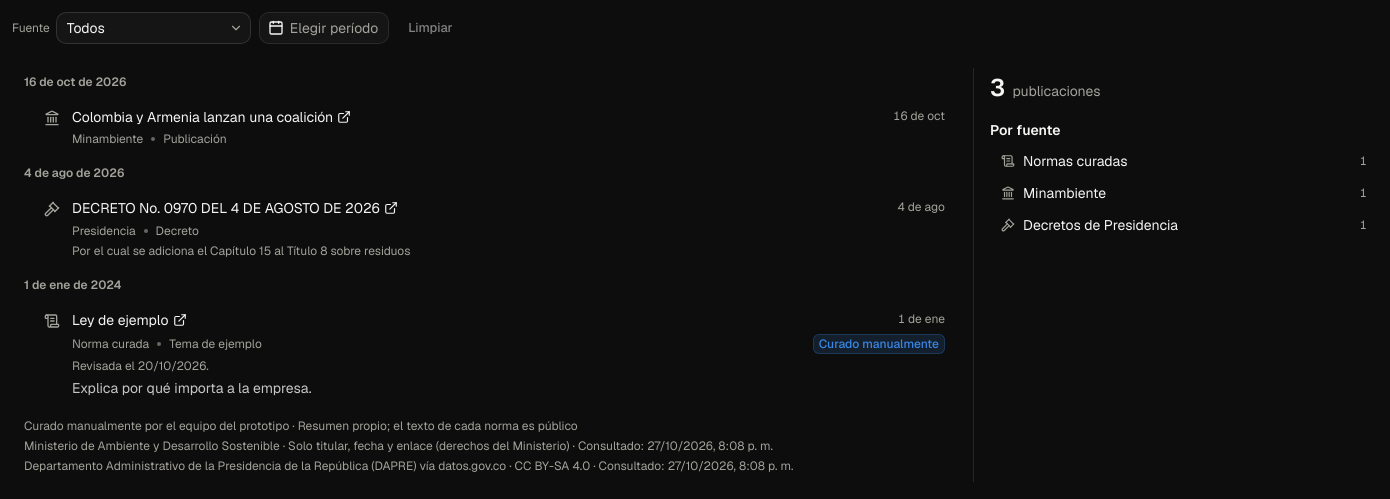
Test case: RegulacionView › filters by source and clears the filter
The width and height of the screenshot is (1390, 499).
Expected: the link "DECRETO No. 0970 DEL 4 DE AGOSTO DE 2026" is shown, [72, 199, 398, 219]
Select "Minambiente" in the dropdown labelled "Fuente" at (153,28), box [56, 12, 251, 44]
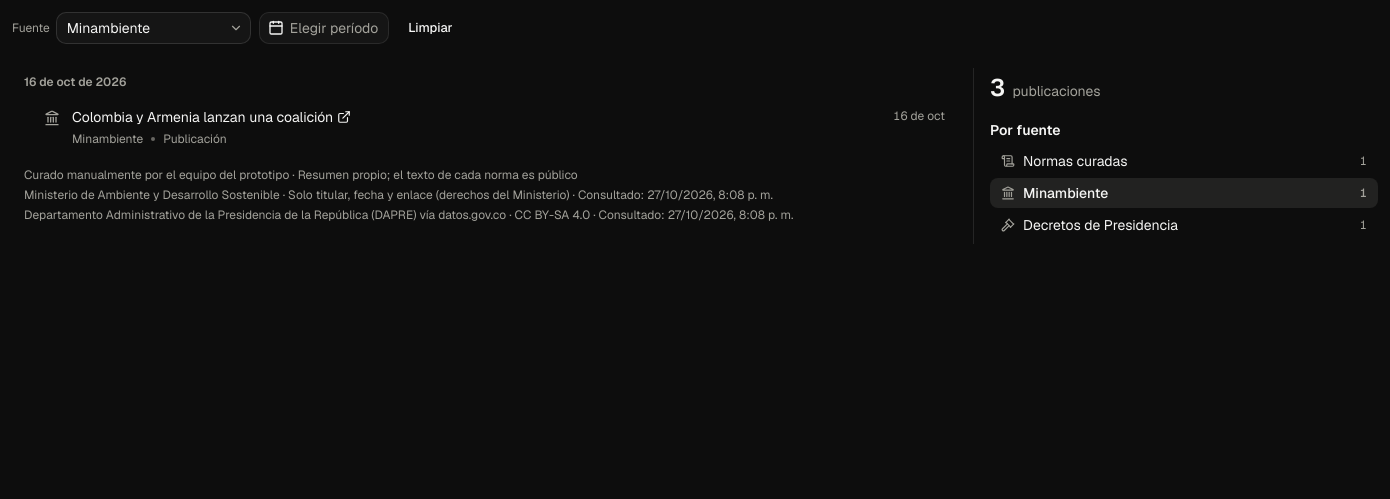
Expected: the link "Colombia y Armenia lanzan una coalición" is shown, [72, 108, 351, 127]
Now the link "DECRETO No. 0970" is gone
Click the button "Limpiar" at (430,28), box [397, 14, 464, 42]
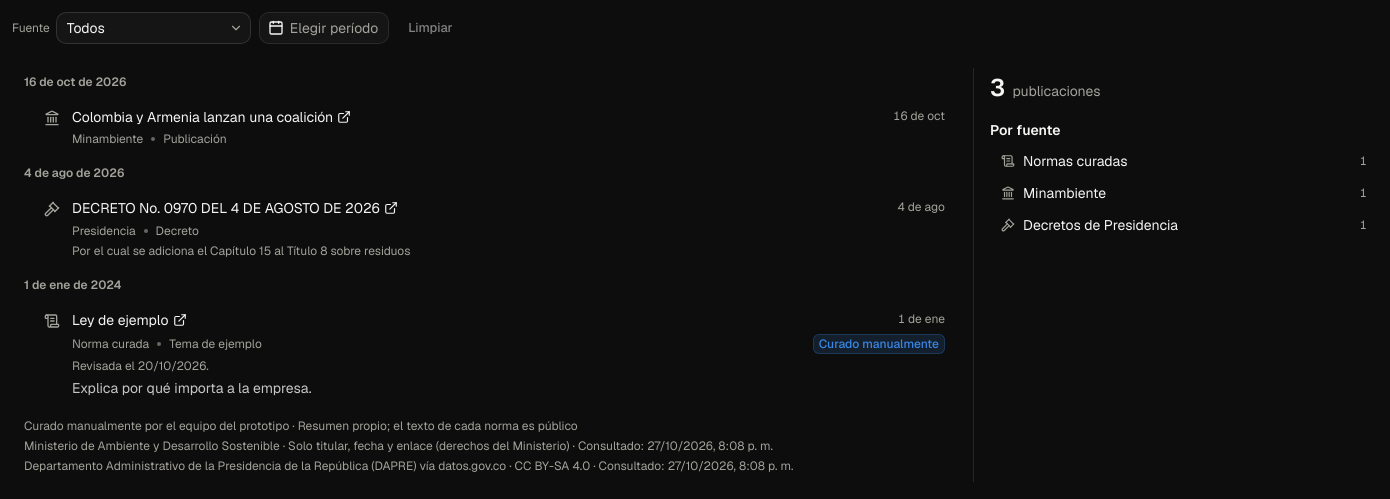
Now the link "DECRETO No. 0970 DEL 4 DE AGOSTO DE 2026" is shown, box [72, 199, 398, 219]
